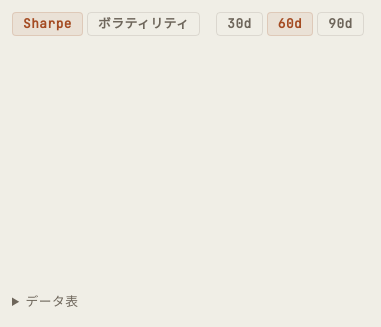
Test: RollingMetricsChartTV metric toggle (issue #376) › Sharpe ボタンで元に戻せる
This screenshot has width=381, height=327.
Click the button "ボラティリティ".
click(144, 24)  # box 87,12 -> 200,36
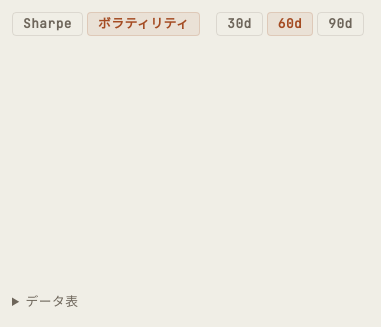
Click the button "Sharpe".
click(48, 24)  # box 12,12 -> 83,36
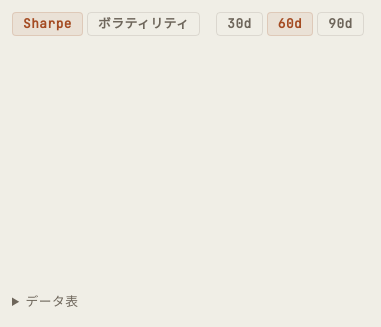
Now the element named "Rolling Sharpe" is shown
